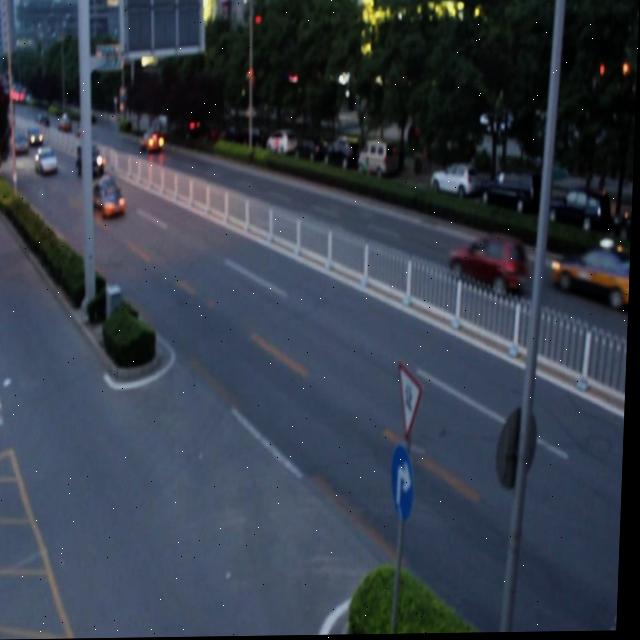car: (553, 251, 632, 308), (451, 245, 525, 294), (91, 182, 125, 216), (78, 147, 105, 177), (142, 134, 165, 156)
